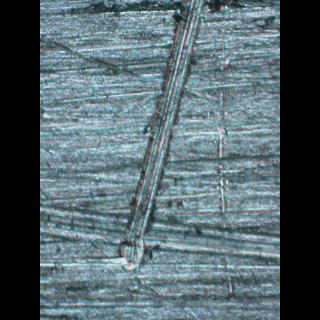d: (112, 0, 224, 276)
